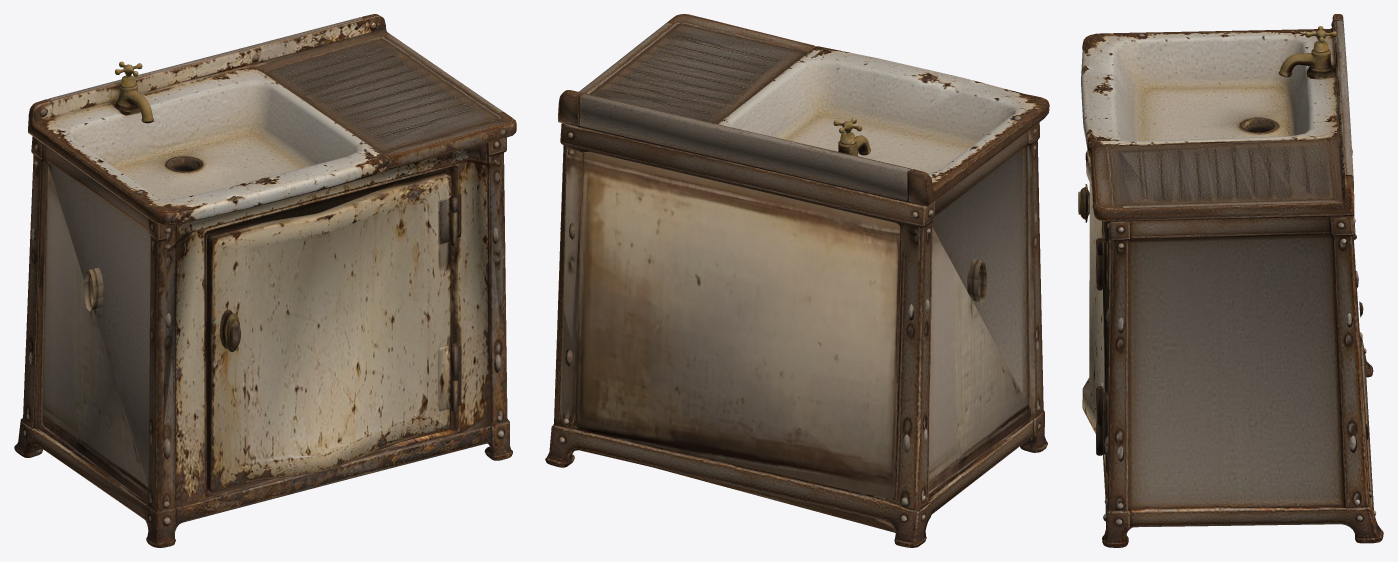
Rendered from canteen-sink.glb.
3 views of the same model, side by side, from view 1: azimuth 30°, elevation 25°; view 2: azimuth 150°, elevation 25°; view 3: azimuth 270°, elevation 25° (orthographic).
Parts seen in each view (by area): view 1: SM_BT_CanteenSink; view 2: SM_BT_CanteenSink; view 3: SM_BT_CanteenSink.
Boxes of the visible parts, box(x1,y1,x2,y2) form: SM_BT_CanteenSink: box(14, 14, 516, 547); SM_BT_CanteenSink: box(545, 14, 1049, 547); SM_BT_CanteenSink: box(1078, 14, 1383, 547).
Size of the model in its own units: 1 by 0.98 by 0.7098.
1 material, 1 textured.
